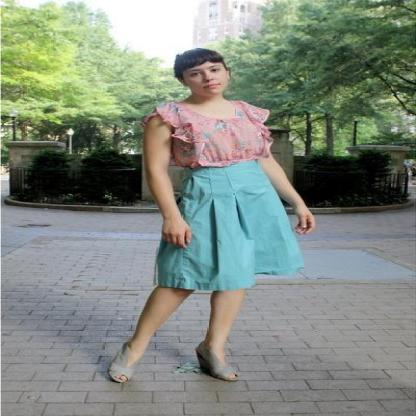shirt: (156, 101, 276, 183)
shoe: (113, 358, 246, 381)
skirt: (155, 160, 304, 291)
